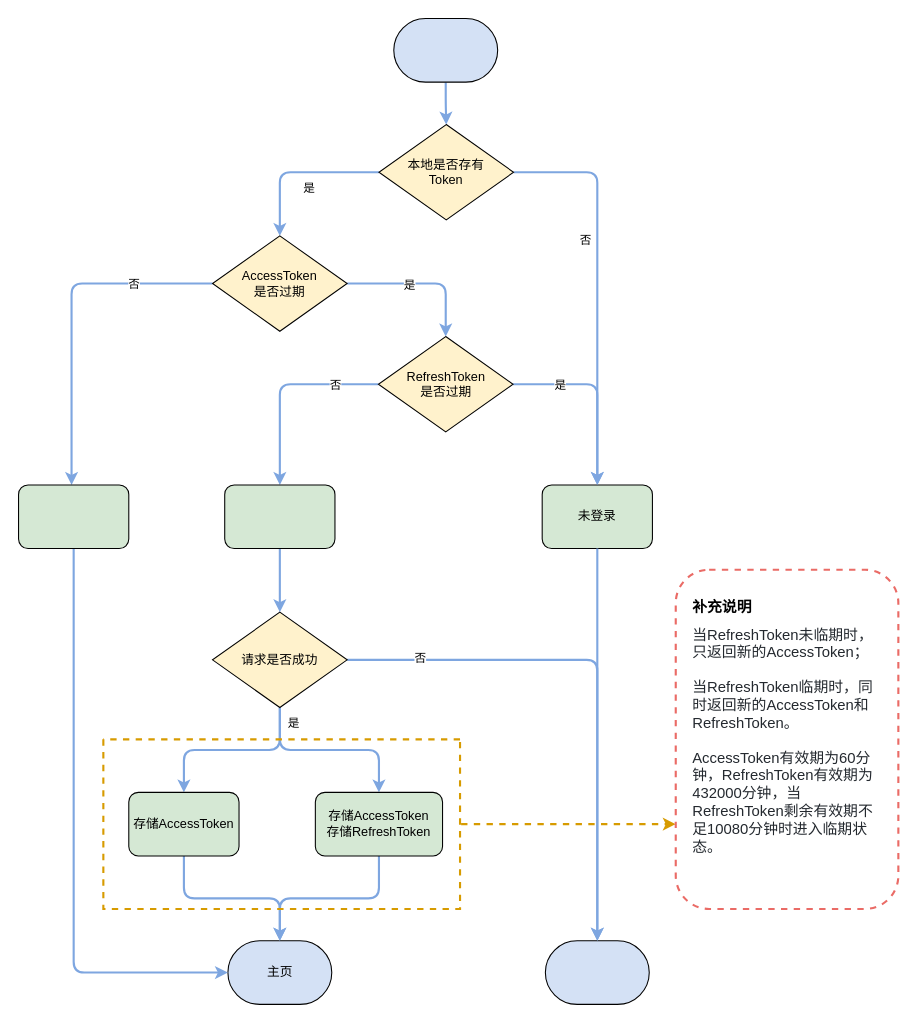
The diagram is 918 pixels wide and 1023 high, and some of its shapes have lost their labels. The shapes that lost their labels are listed below. From the top down, each one's centre as x and y in pixels, then its label:
At pixel 445 49: "访问应用".
At pixel 73 516: "登录成功".
At pixel 279 516: "请求Refresh接口".
At pixel 596 972: "注册/登录页".
